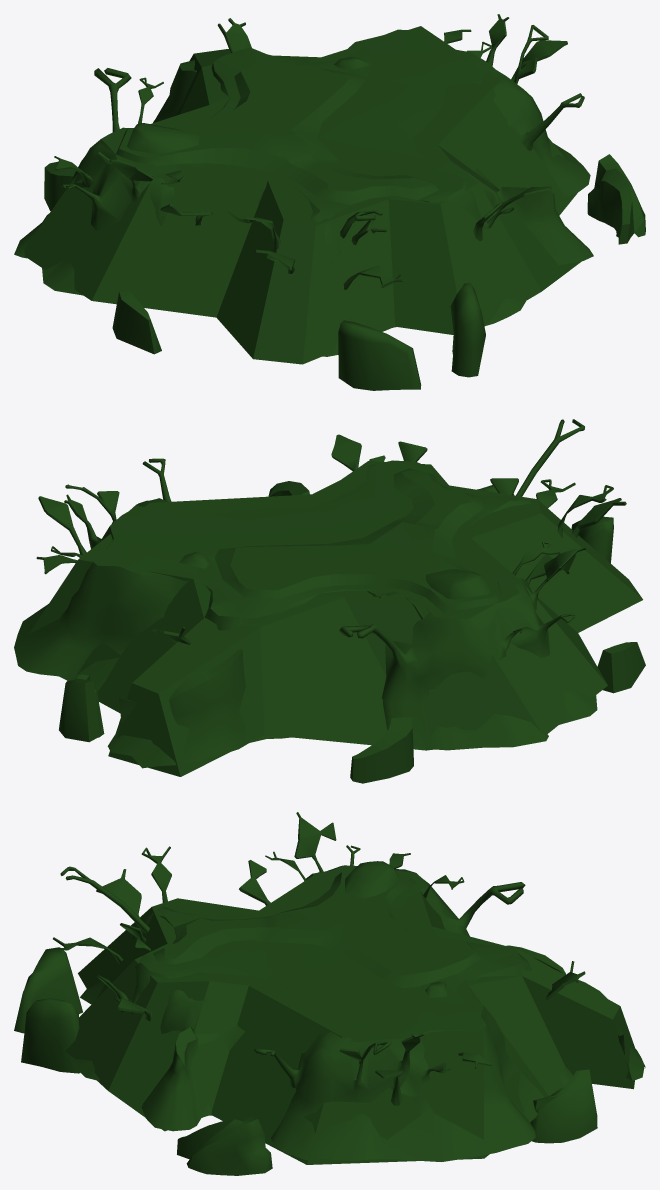
Rendered from cocoon.FBX.
3 renders of one model, top to bottom at view 1: azimuth 30°, elevation 25°; view 2: azimuth 150°, elevation 25°; view 3: azimuth 270°, elevation 25°, orthographic. The views are drawn at different scales.
Visible parts, largest first — view 1: cocoon_LOD0, cocoon_COL; view 2: cocoon_LOD0, cocoon_COL; view 3: cocoon_LOD0, cocoon_COL.
Boxes of the visible parts, x1,y1,x2,y2 form: cocoon_LOD0: (14,14,645,390); cocoon_COL: (24,26,581,364); cocoon_LOD0: (14,419,645,783); cocoon_COL: (28,461,642,776); cocoon_LOD0: (14,812,645,1175); cocoon_COL: (65,872,634,1164).
Size of what is drawn, in the model's own units: 2.46 by 0.747 by 2.67.
